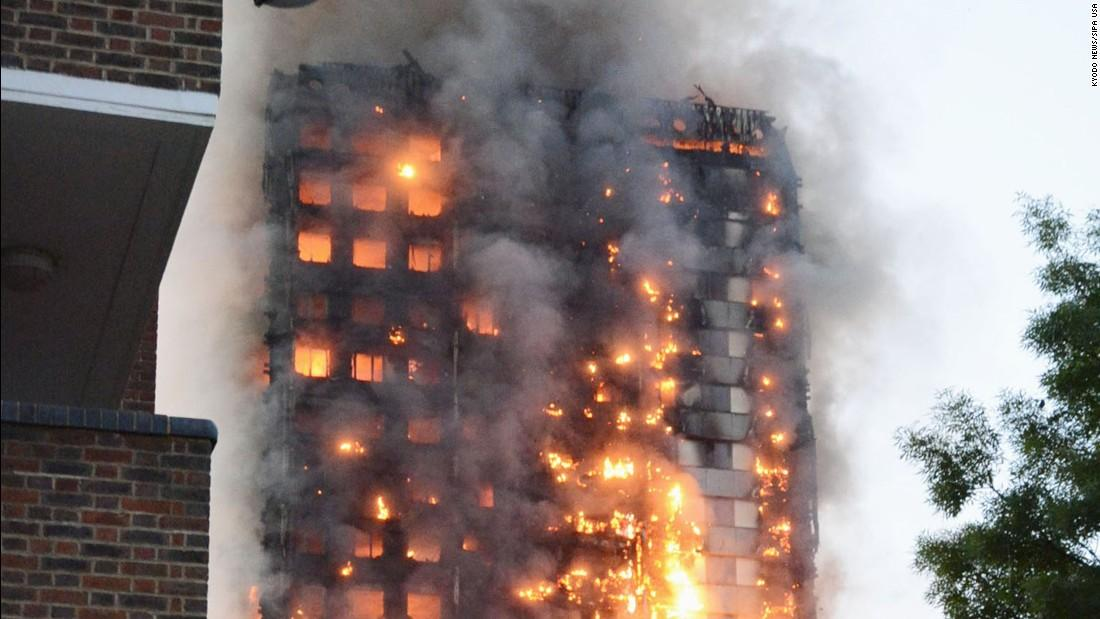fire: (626, 449, 710, 619), (391, 145, 441, 202)
smoke: (308, 5, 698, 78)
